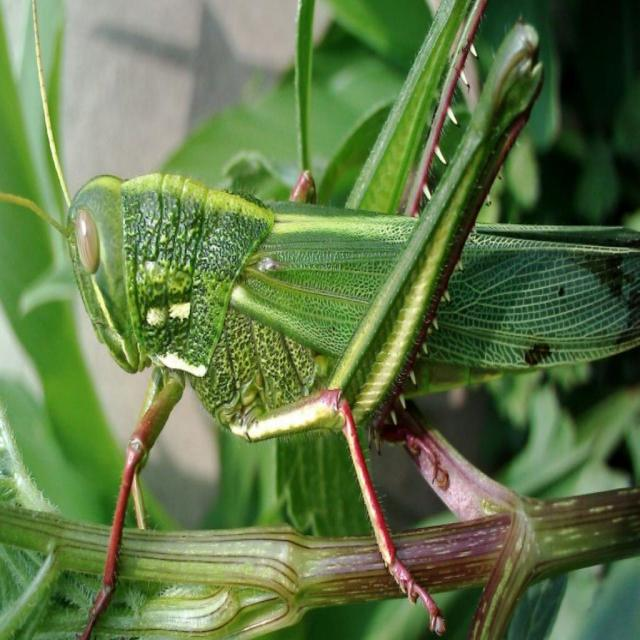ZhaMeng: (28, 26, 634, 467)
